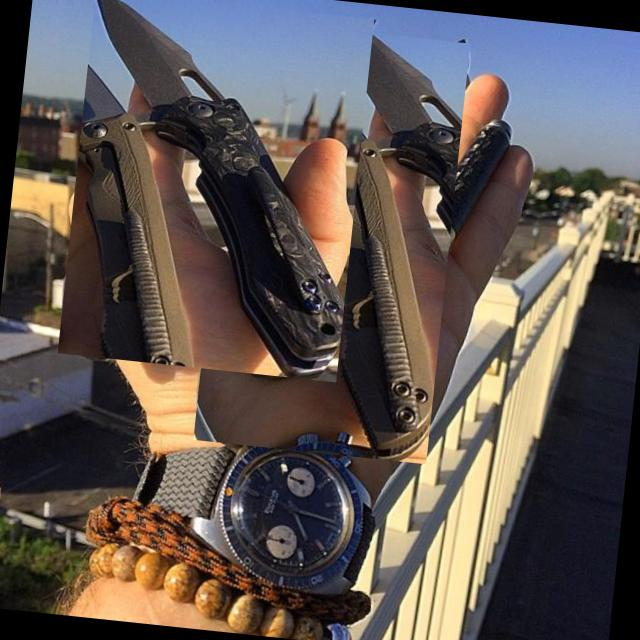Knife: (98, 0, 343, 378), (235, 19, 433, 460)
